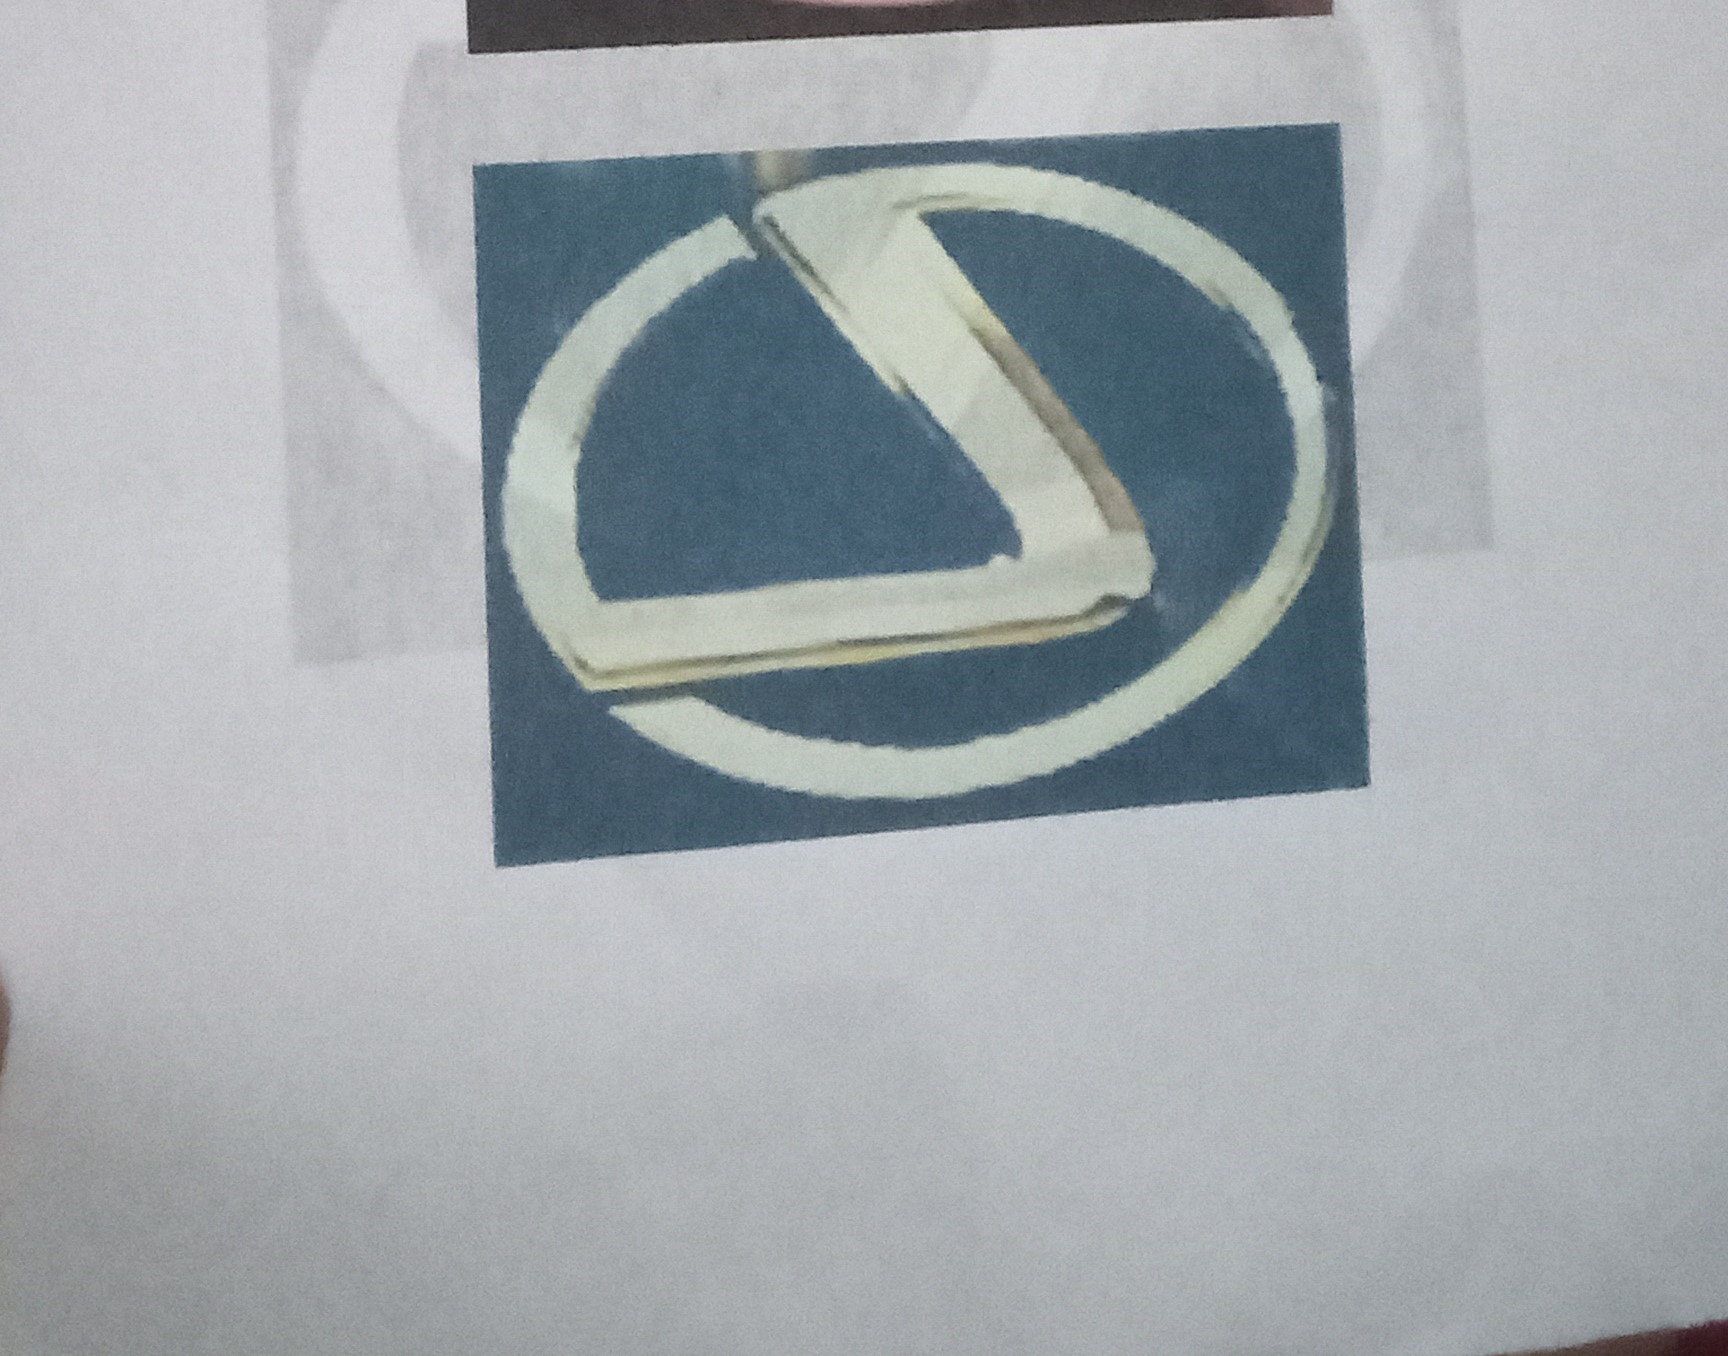Lexus: (497, 149, 1338, 801)
